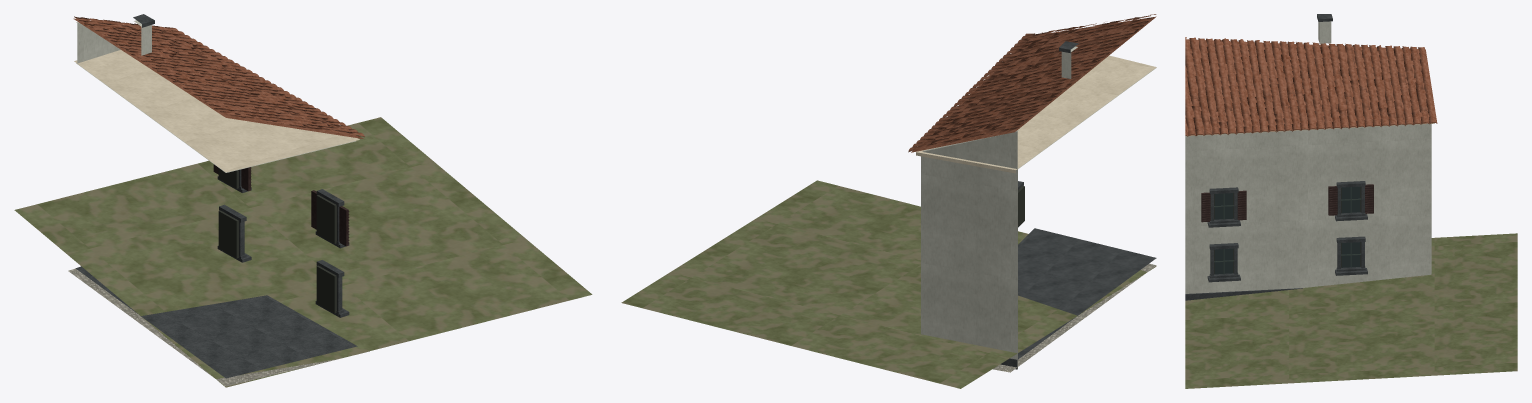
3 views of the same model, side by side, from view 1: azimuth 30°, elevation 25°; view 2: azimuth 150°, elevation 25°; view 3: azimuth 270°, elevation 25° (orthographic). The views are drawn at different scales.
Size of the model in its own units: 16 by 12.65 by 16.
10 materials, 7 textured.
